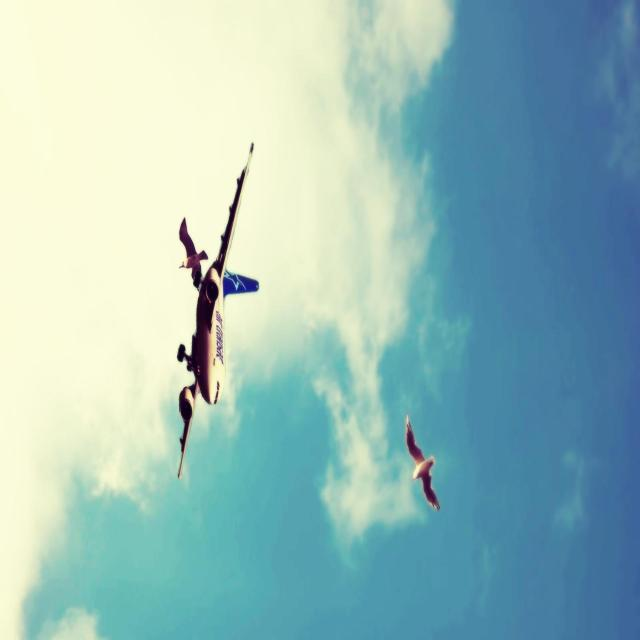airplane: (176, 140, 259, 479)
